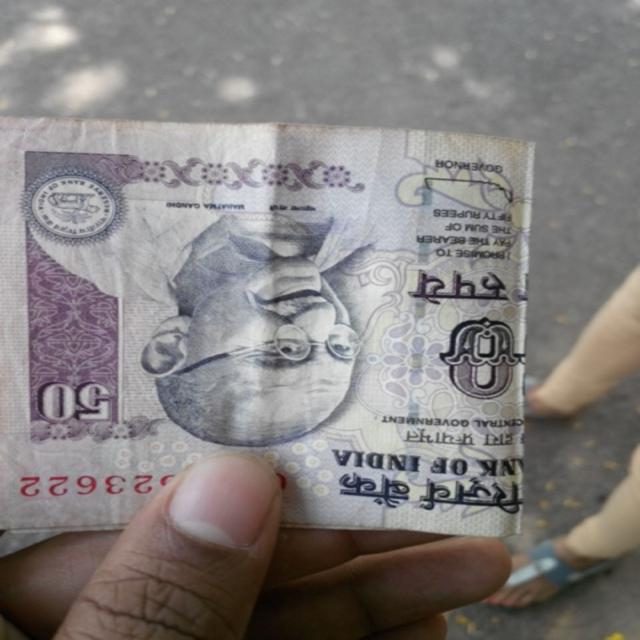50rs: (6, 114, 540, 556)
